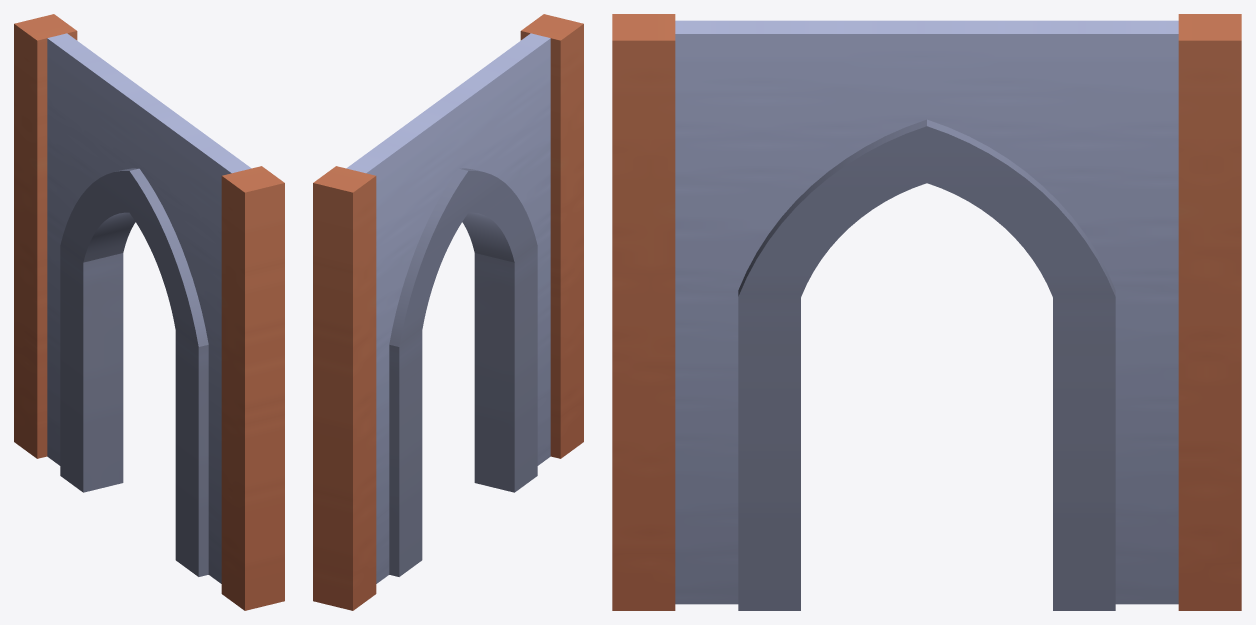
The model's file is wallDoorwayRound.fbx.
The picture shows the model from 3 angles, left to right: view 1: azimuth 30°, elevation 25°; view 2: azimuth 150°, elevation 25°; view 3: azimuth 270°, elevation 25°; orthographic projection. The views are drawn at different scales.
Parts seen in each view (by area): view 1: wallDoorwayRound; view 2: wallDoorwayRound; view 3: wallDoorwayRound.
Boxes of the visible parts, x1=… form: wallDoorwayRound: x1=14, y1=14, x2=284, y2=610; wallDoorwayRound: x1=313, y1=14, x2=583, y2=610; wallDoorwayRound: x1=612, y1=14, x2=1241, y2=610.
Bounding box in the file's own units: 0.1 × 1 × 1.
